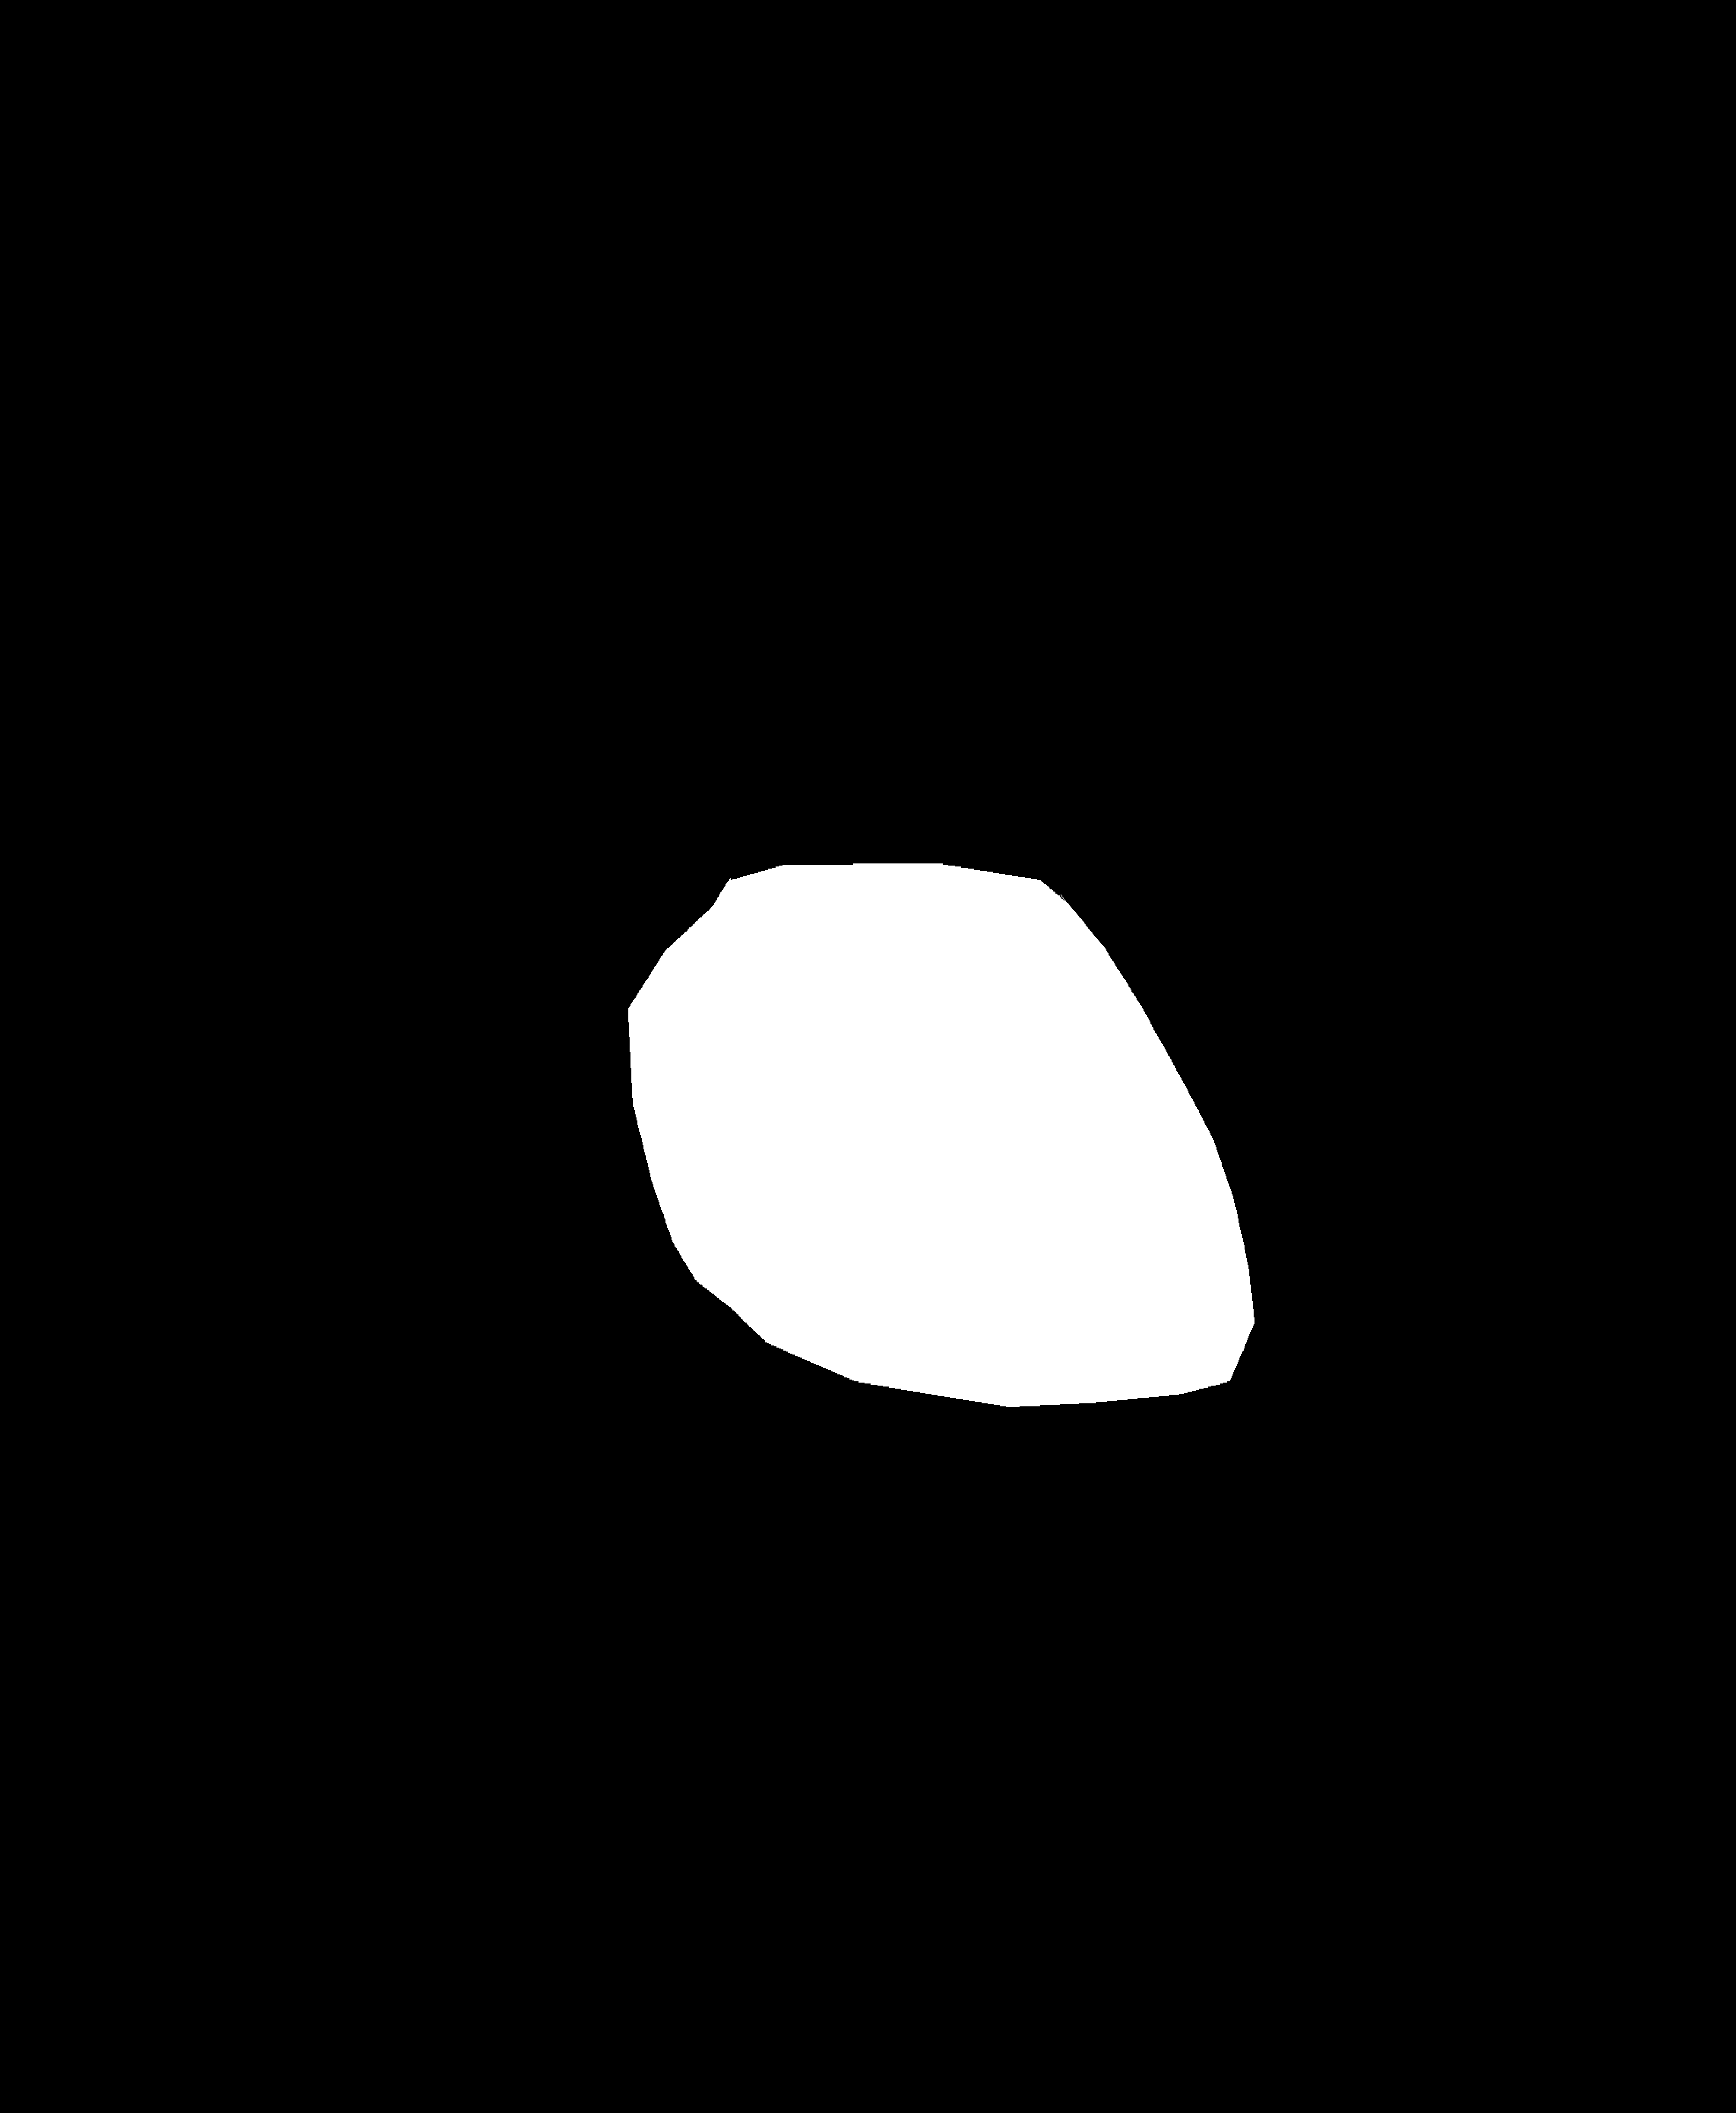heart: (627, 756, 1246, 1413)
left_lung: (172, 251, 786, 1611)
right_lung: (904, 228, 1580, 1543)
